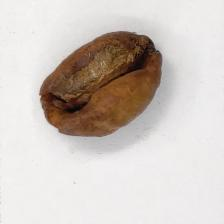NG: (39, 30, 155, 107)
